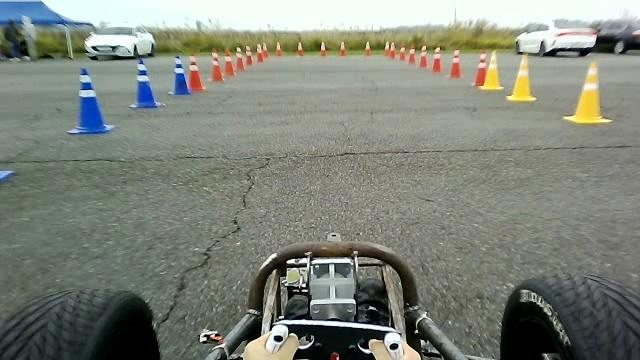blue cone: (66, 67, 115, 134), (128, 57, 166, 108), (168, 54, 192, 95)
red cone: (187, 52, 205, 91), (472, 49, 488, 86), (207, 48, 224, 82), (448, 48, 463, 78), (223, 47, 236, 76), (431, 46, 441, 72)
yellow cone: (564, 58, 614, 122), (506, 52, 538, 102), (478, 49, 504, 90)
